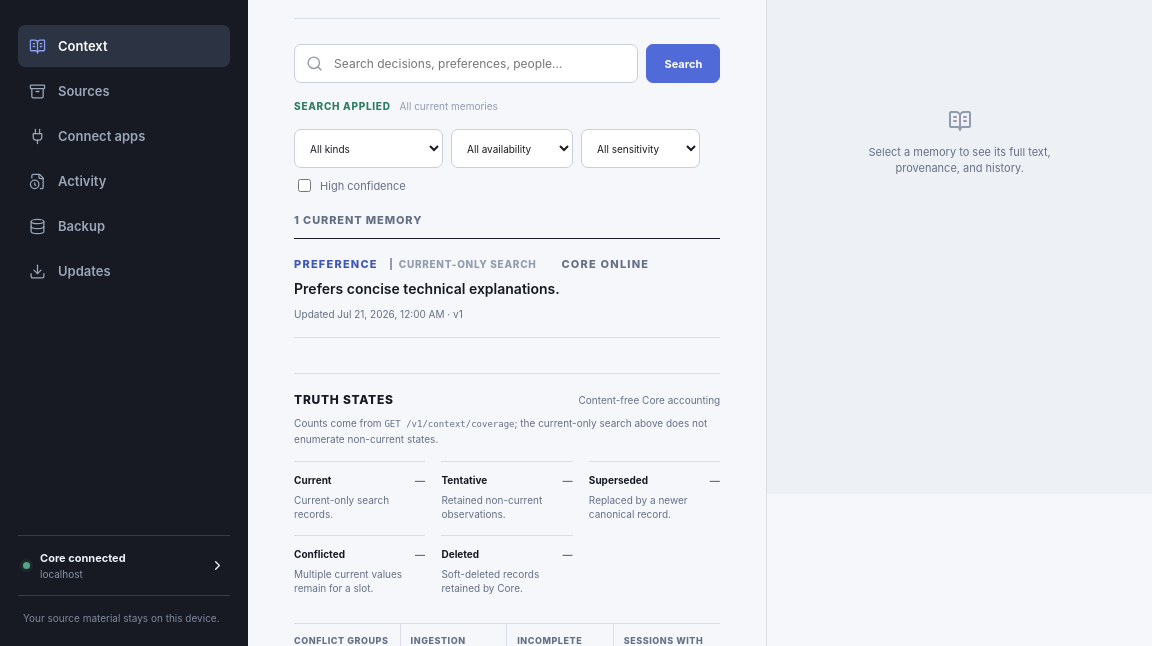
Scenario: dashboard › distinguishes history loading failure from an empty history response
This screenshot has width=1152, height=646.
(page scrolled)
Step 1. Click the button with aria-label "preference memory" → (507, 289), box [294,239,720,338]
(page scrolled)
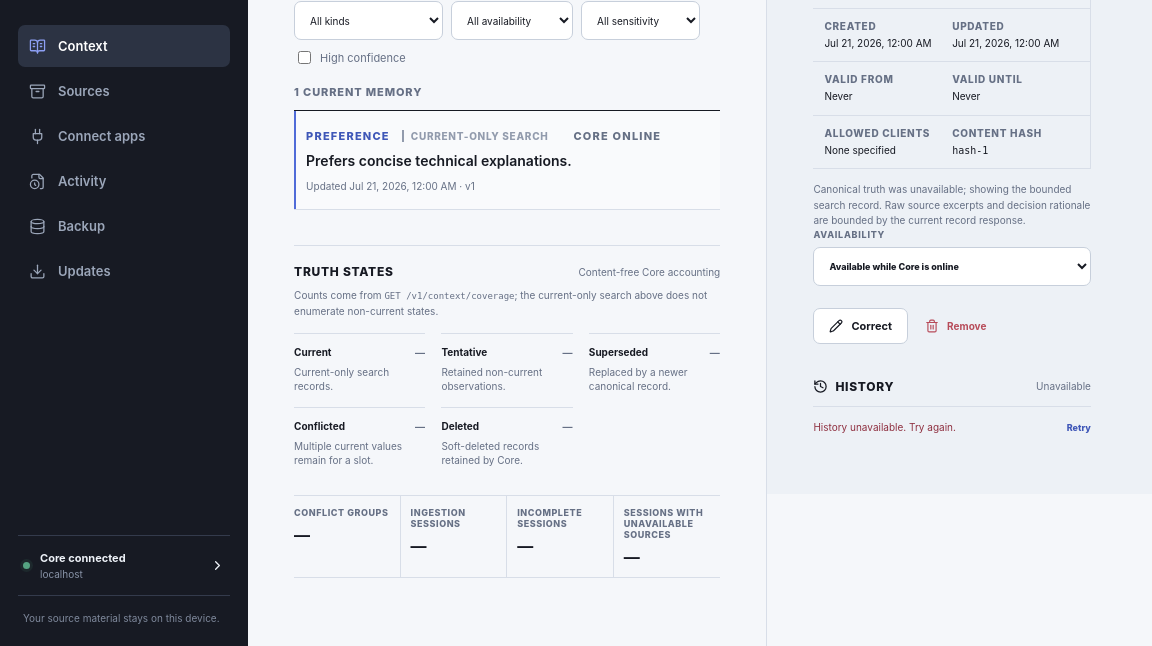
Result: the text "History unavailable. Try again." is shown at [813,420,956,435]
Result: the text "Unavailable" is shown at [1036,380,1091,392]
Result: the message shows "History unavailable. Try again." at [813,421,956,433]
Step 2. Click the button "Retry" → (1074, 427), box [1057,419,1091,436]
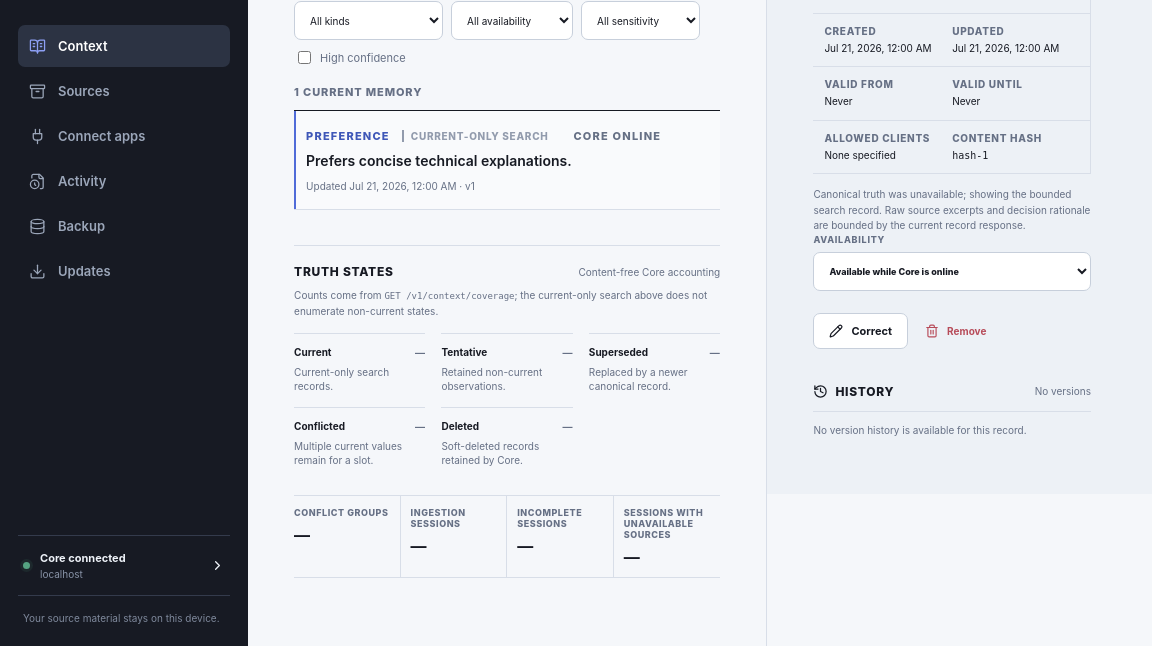
Result: the text "No versions" is shown at [1035,385,1091,397]
Result: the text "No version history is available for this record." is shown at [813,411,1091,448]
